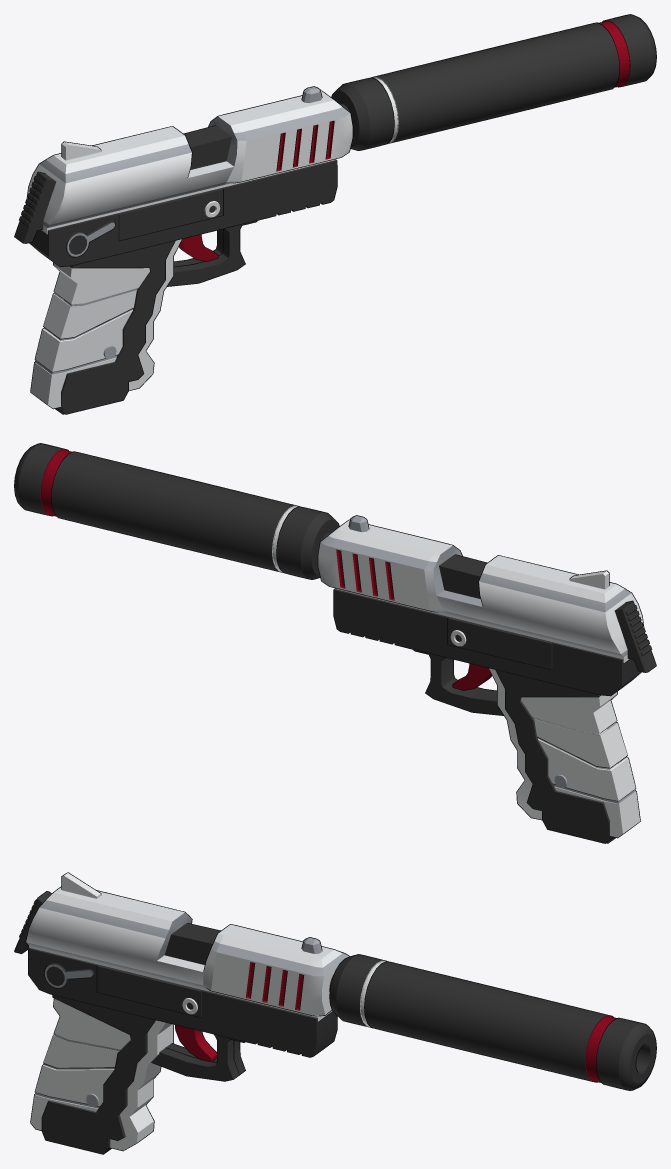
The picture shows the model from 3 angles, top to bottom: view 1: azimuth 30°, elevation 25°; view 2: azimuth 150°, elevation 25°; view 3: azimuth 330°, elevation 25°; orthographic projection.
Parts seen in each view (by area): view 1: Pistol; view 2: Pistol; view 3: Pistol.
Boxes of the visible parts, x1,y1,x2,y2 form: Pistol: [14, 14, 656, 414]; Pistol: [14, 443, 656, 843]; Pistol: [14, 872, 656, 1154].
Bounding box in the file's own units: 0.2158 × 0.0871 × 0.0209.
